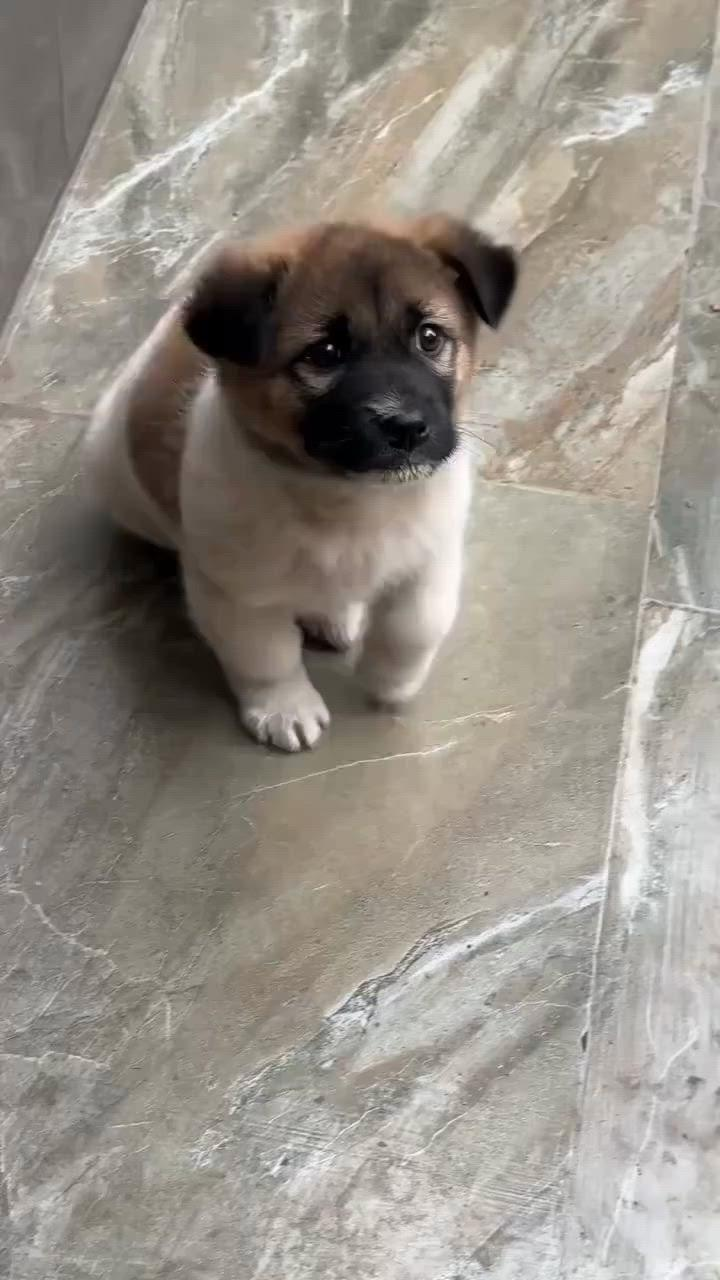puppy-dog: (85, 211, 519, 755)
